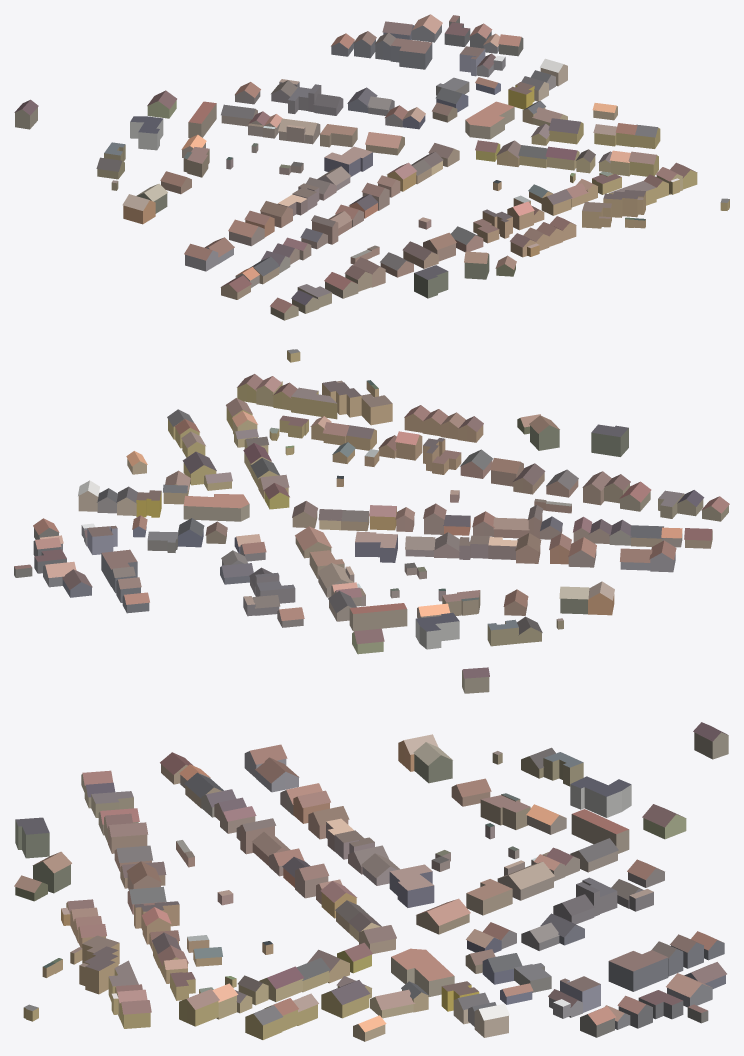
The picture shows the model from 3 angles, top to bottom: view 1: azimuth 30°, elevation 25°; view 2: azimuth 150°, elevation 25°; view 3: azimuth 270°, elevation 25°; orthographic projection. The views are drawn at different scales.
Visible parts, largest first — view 1: tuile; view 2: tuile; view 3: tuile.
Boxes of the visible parts, x1,y1,x2,y2 form: tuile: [14, 14, 729, 320]; tuile: [14, 349, 729, 693]; tuile: [14, 722, 728, 1041].
Bounding box in the file's own units: 258 × 20.39 × 263.
